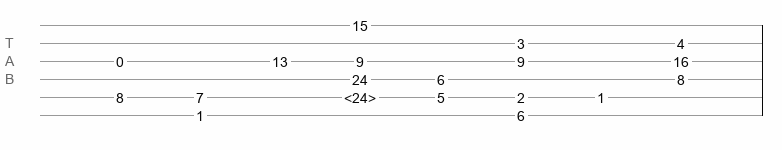0: (116, 54, 124, 64)
1: (196, 108, 204, 118), (597, 90, 605, 100)
13: (272, 54, 288, 64)
15: (352, 18, 368, 28)
16: (673, 54, 689, 64)
2: (517, 90, 525, 100)
24: (352, 72, 368, 82)
3: (517, 36, 525, 46)
4: (677, 36, 685, 46)
5: (437, 90, 445, 100)
6: (437, 72, 445, 82), (517, 108, 525, 118)
7: (196, 90, 204, 100)
8: (116, 90, 124, 100), (677, 72, 685, 82)
9: (356, 54, 364, 64), (517, 54, 525, 64)
harmonic: (344, 90, 376, 100)
